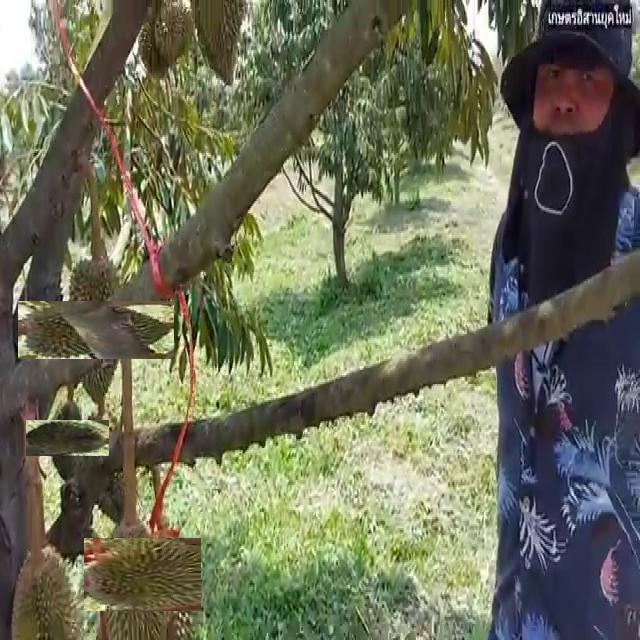durian: (43, 276, 150, 384), (87, 523, 187, 625), (9, 538, 84, 638), (190, 0, 250, 94), (37, 408, 97, 468)
